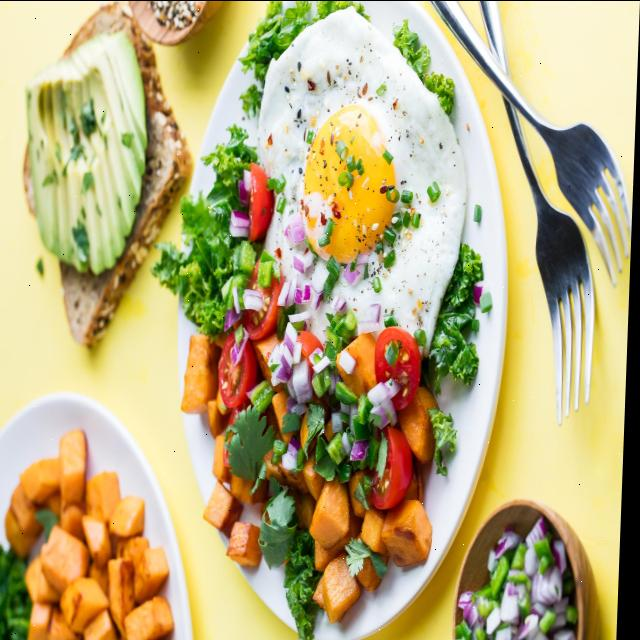Egg: (259, 6, 468, 351)
